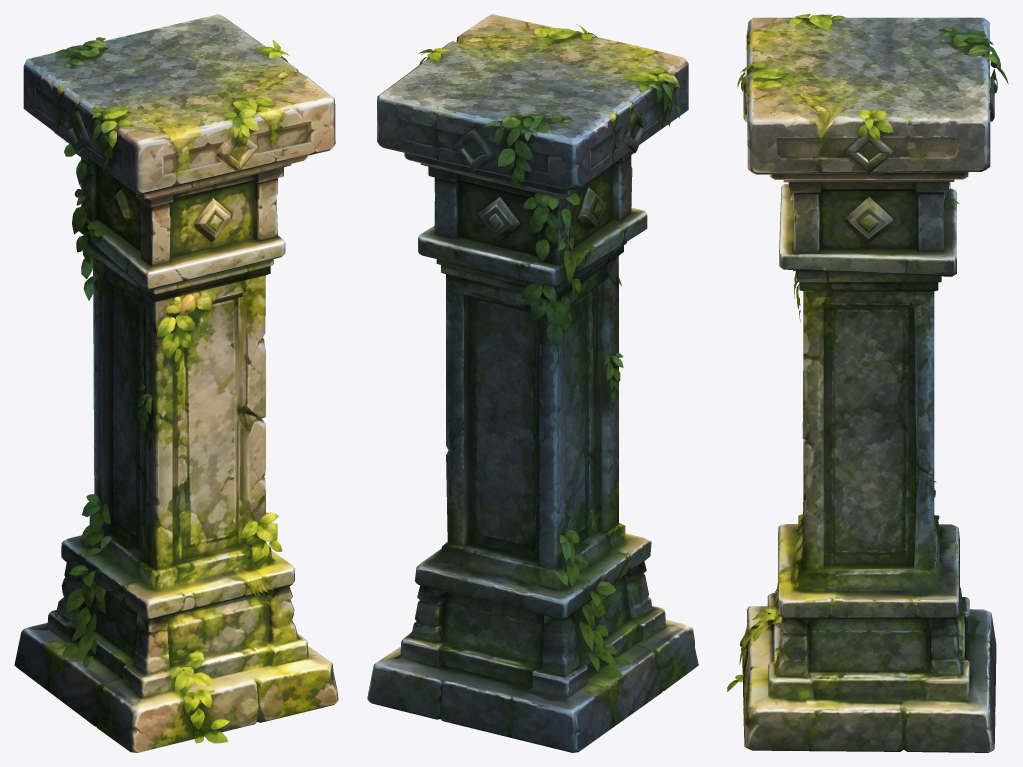
The model's file is stone+pillar+3d+model.fbx.
3 renders of one model, left to right at view 1: azimuth 30°, elevation 25°; view 2: azimuth 150°, elevation 25°; view 3: azimuth 270°, elevation 25°, orthographic. The views are drawn at different scales.
Parts seen in each view (by area): view 1: efdd511d_fd83_4c0b_9273_2b6a133a04ae; view 2: efdd511d_fd83_4c0b_9273_2b6a133a04ae; view 3: efdd511d_fd83_4c0b_9273_2b6a133a04ae.
Boxes of the visible parts, bbox=[...] form: efdd511d_fd83_4c0b_9273_2b6a133a04ae: bbox=[14, 14, 338, 752]; efdd511d_fd83_4c0b_9273_2b6a133a04ae: bbox=[367, 14, 698, 752]; efdd511d_fd83_4c0b_9273_2b6a133a04ae: bbox=[727, 14, 1008, 752].
Bounding box in the file's own units: 0.3794 × 0.9995 × 0.3979.
